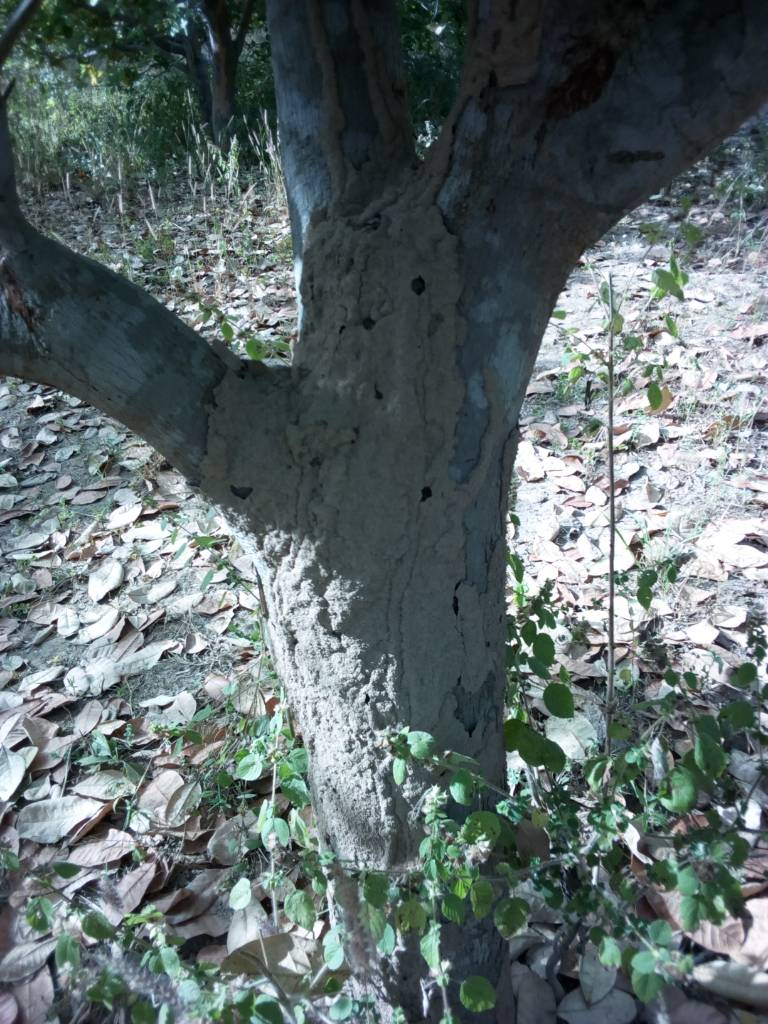Termites: (308, 203, 486, 880), (202, 416, 308, 632)
